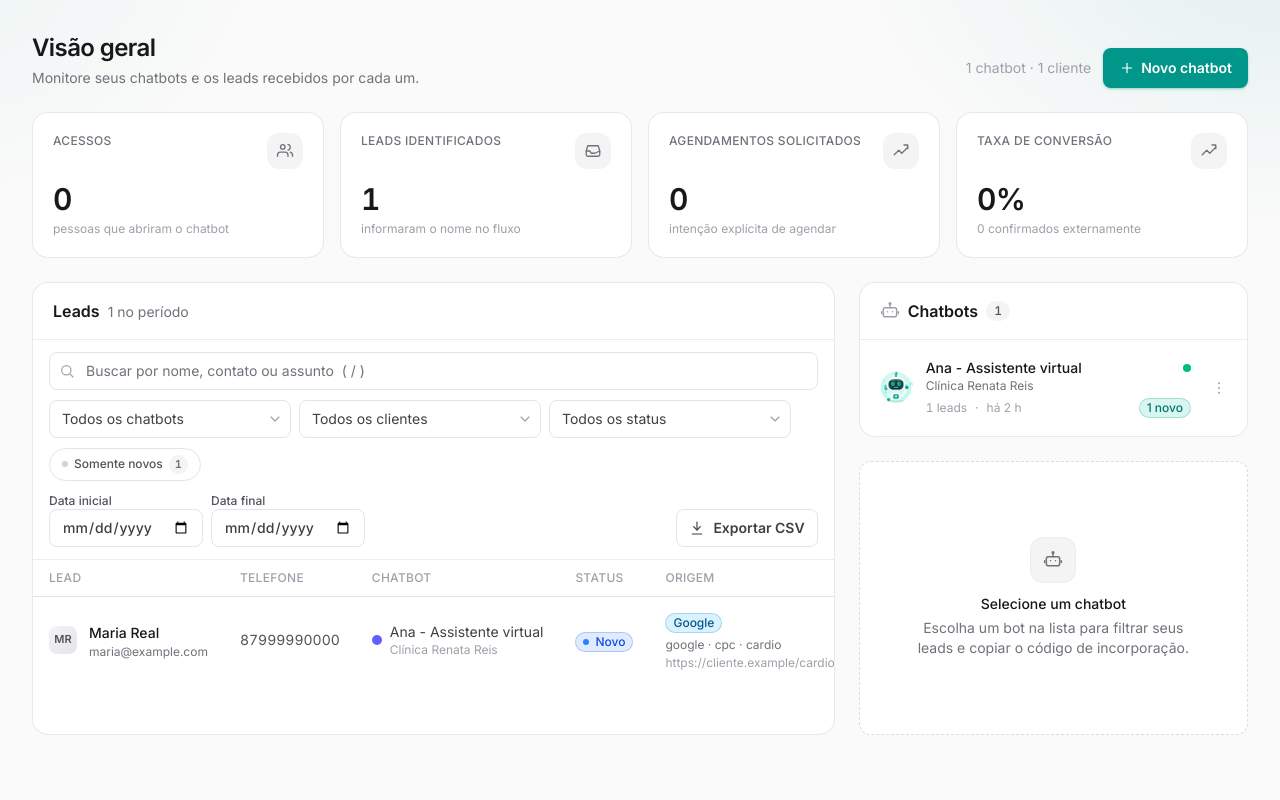
Test: DashboardHome — respostas do diálogo no modal do lead › shows option labels instead of internal ids
Click the button "Maria Real": {"x": 124, "y": 633} top-left (89, 623), bottom-right (159, 643)
(page scrolled)
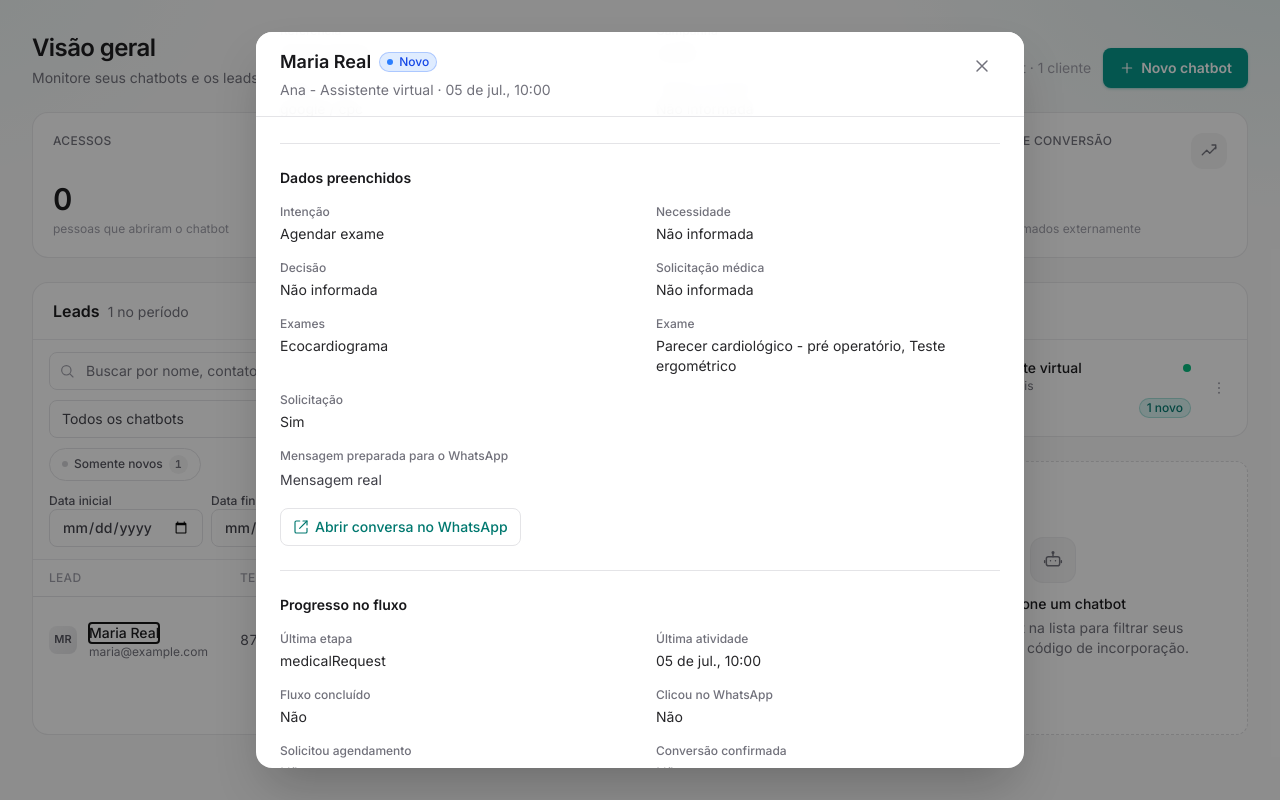
Now the text "Parecer cardiológico - pré operatório, Teste ergométrico" is shown, box top-left (656, 337), bottom-right (945, 374)
Now the text "Sim" is shown, box top-left (280, 413), bottom-right (305, 430)
Now the text "Exame" is shown, box top-left (656, 316), bottom-right (694, 331)
